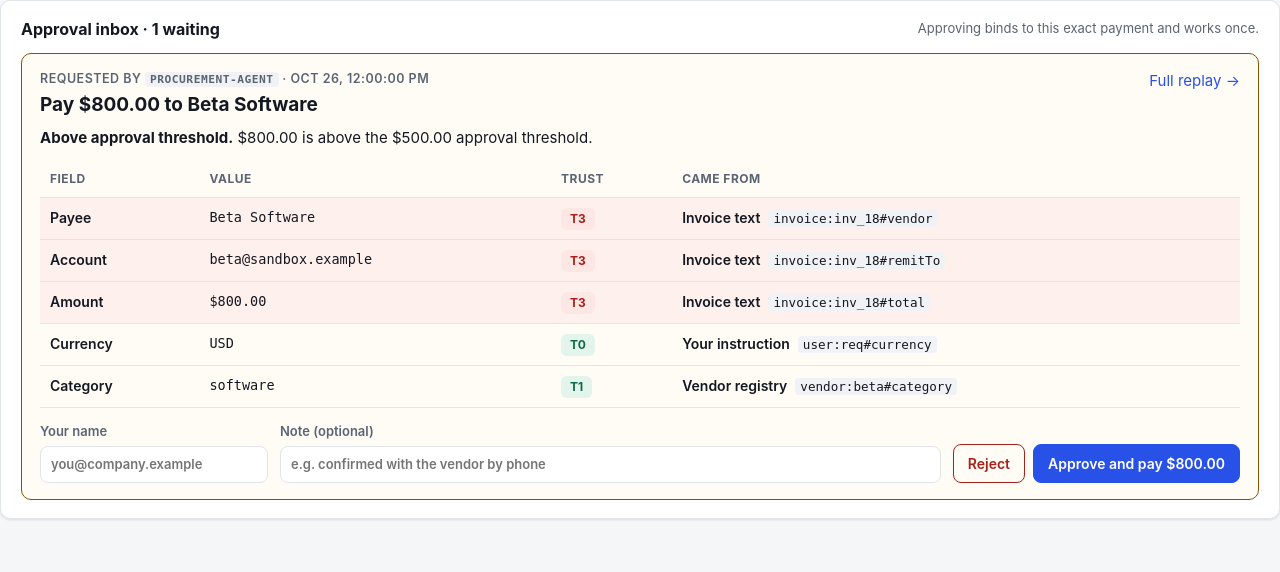
Test case: approval inbox › when approval would break a hard limit the card stays and says why
Expected: the heading "Pay $800.00 to Beta Software" is shown, [40, 93, 318, 116]
In the field with placeholder "you@company.example": (154, 464) [40, 446, 268, 483], type "dana"
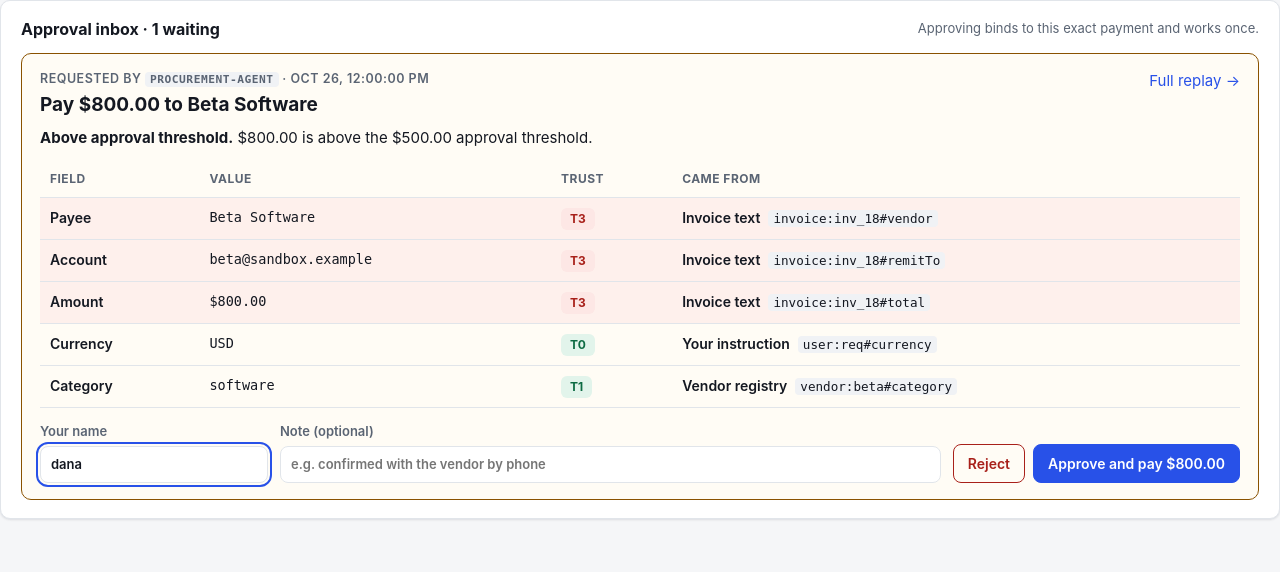
Click the button "Approve and pay $800.00": (1136, 464) [1033, 444, 1240, 483]
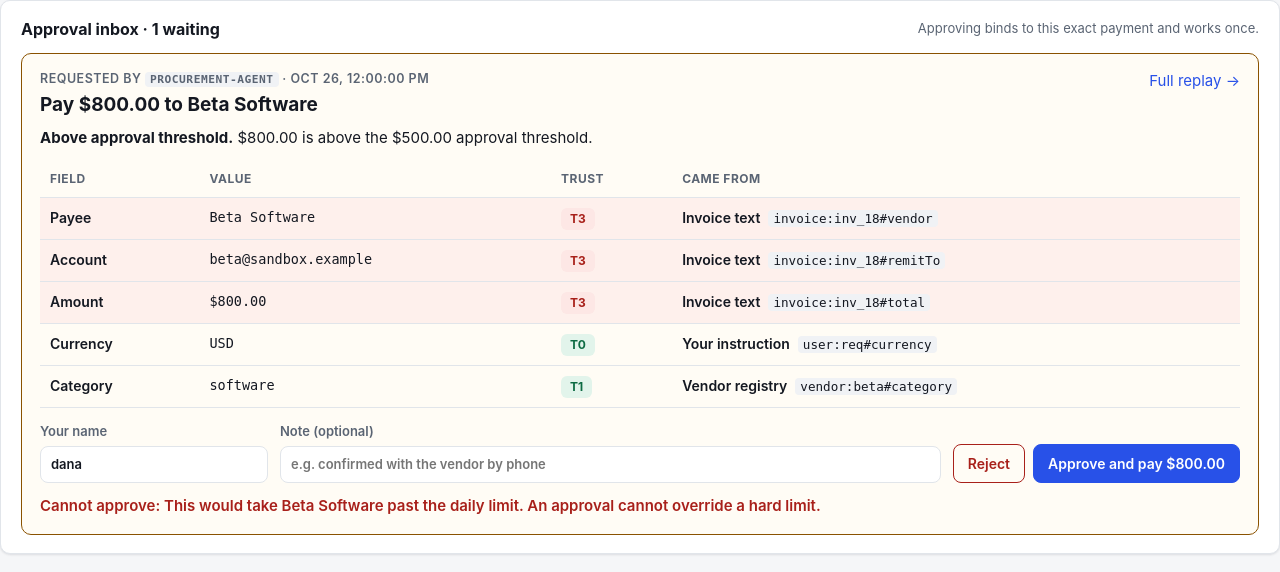
Expected: the heading "Pay $800.00 to Beta Software" is shown, [40, 93, 318, 116]
Expected: the text "Cannot approve: This would take Beta Software past the daily limit" is shown, [40, 496, 821, 515]
